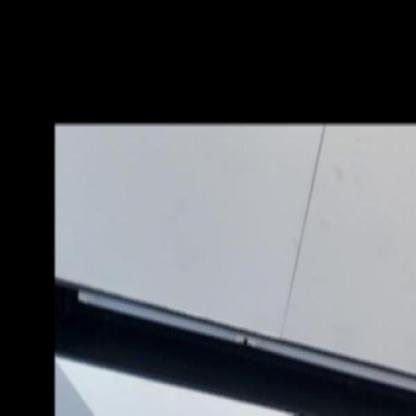light_off: (72, 258, 416, 415)
